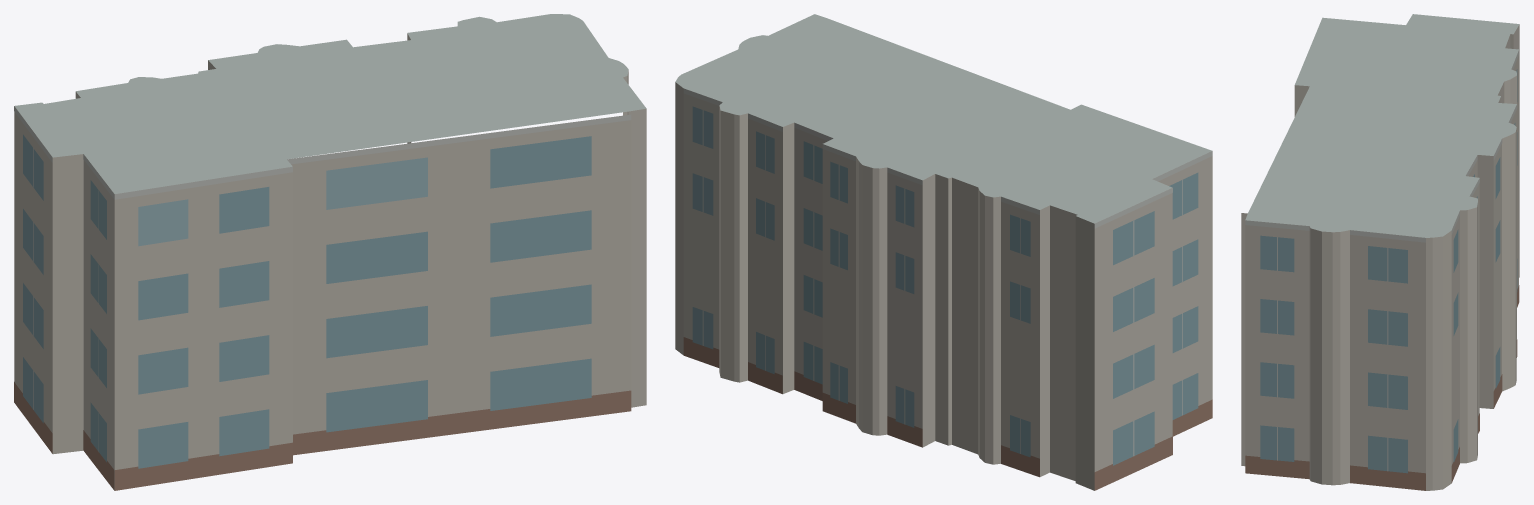
The model's file is survey-upis-32871610.glb.
3 views of the same model, side by side, from view 1: azimuth 30°, elevation 25°; view 2: azimuth 150°, elevation 25°; view 3: azimuth 270°, elevation 25° (orthographic). The views are drawn at different scales.
Visible parts, largest first — view 1: survey-upis-32871610.tmp; view 2: survey-upis-32871610.tmp; view 3: survey-upis-32871610.tmp.
Part boxes in pixels (bbox=[...]): survey-upis-32871610.tmp: bbox=[14, 14, 646, 490]; survey-upis-32871610.tmp: bbox=[675, 14, 1212, 490]; survey-upis-32871610.tmp: bbox=[1241, 14, 1519, 490].
Bounding box in the file's own units: 24.68 × 13 × 12.97.
